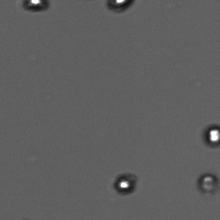Dead Cell: (198, 172, 217, 192)
Living Cell: (203, 122, 220, 148), (116, 176, 130, 190), (107, 1, 131, 8), (27, 1, 44, 9)
